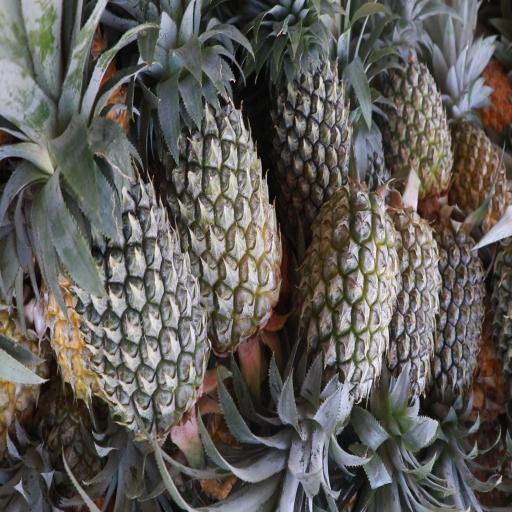------------------------------: (164, 87, 285, 341), (300, 189, 398, 402), (380, 35, 455, 197)
